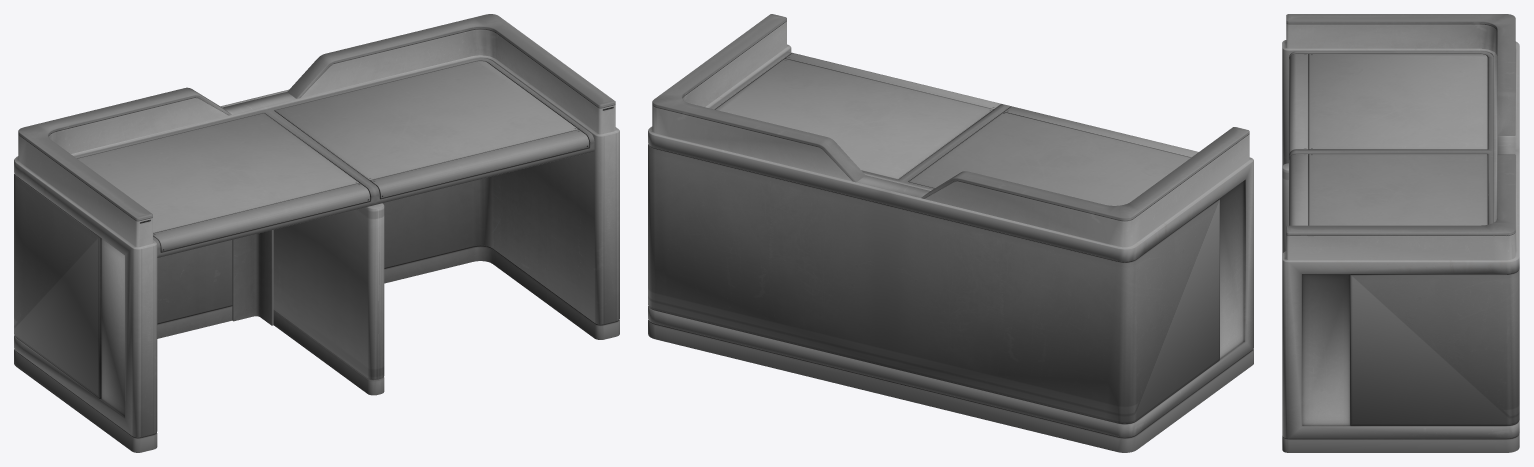
The model's file is Desk1.fbx.
The picture shows the model from 3 angles, left to right: view 1: azimuth 30°, elevation 25°; view 2: azimuth 150°, elevation 25°; view 3: azimuth 270°, elevation 25°; orthographic projection. The views are drawn at different scales.
Parts seen in each view (by area): view 1: SM_Desk_A_v2; view 2: SM_Desk_A_v2; view 3: SM_Desk_A_v2.
Boxes of the visible parts, left/top/right/bottom form: SM_Desk_A_v2: left=14, top=14, right=619, bottom=452; SM_Desk_A_v2: left=648, top=14, right=1253, bottom=452; SM_Desk_A_v2: left=1282, top=14, right=1519, bottom=452.
Bounding box in the file's own units: 200 × 91.37 × 90.
